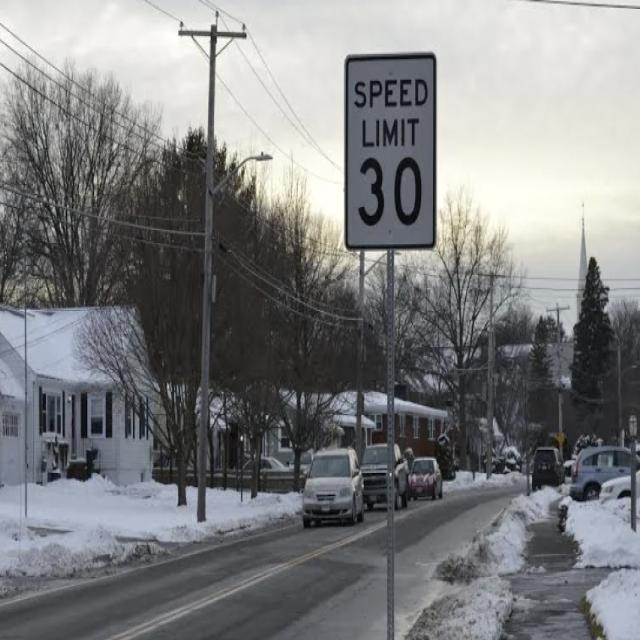speedLimit30: (346, 55, 435, 248)
